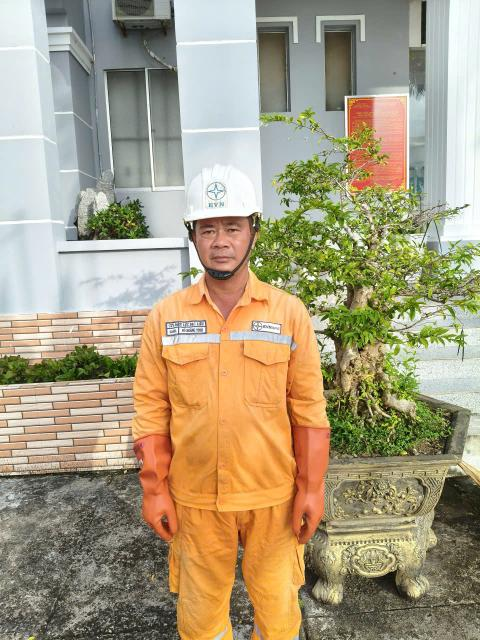gloves: (274, 413, 341, 548), (129, 421, 193, 542)
helmet: (171, 158, 282, 228)
